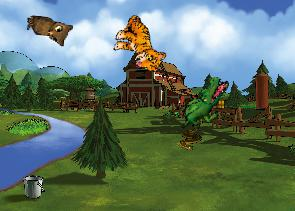crocodile: (179, 70, 230, 137)
owl: (24, 15, 73, 47)
tiger: (107, 11, 175, 76)
